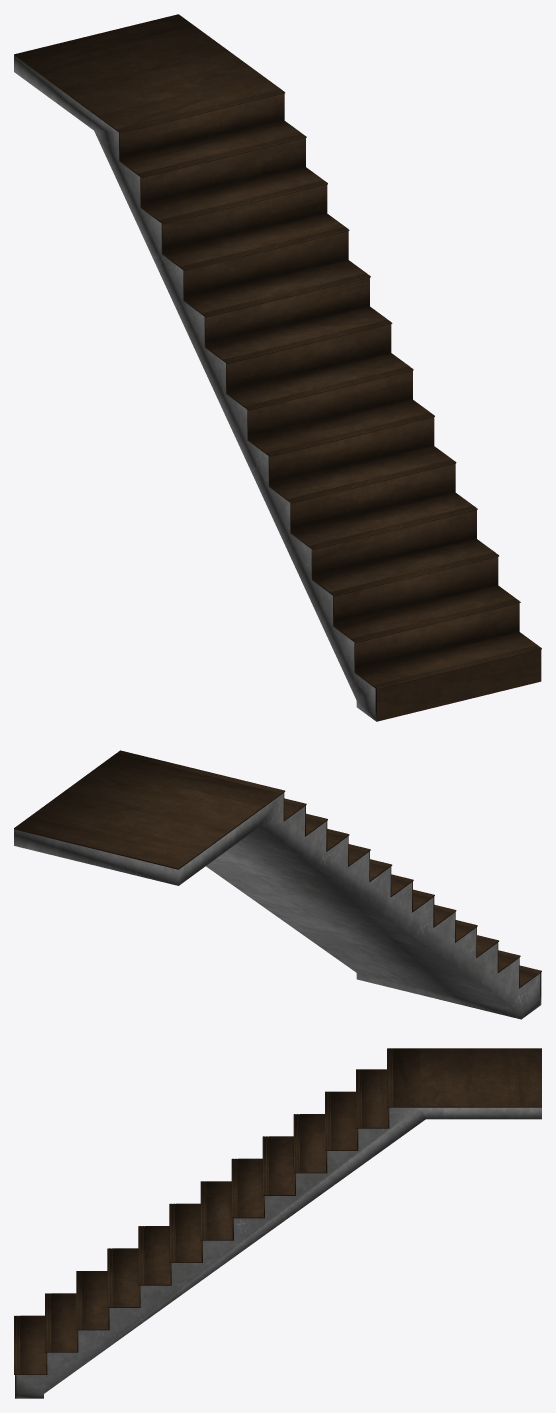
The model's file is stairs.glb.
3 views of the same model, one above another, from view 1: azimuth 30°, elevation 25°; view 2: azimuth 150°, elevation 25°; view 3: azimuth 270°, elevation 25° (orthographic). The views are drawn at different scales.
Visible parts, largest first — view 1: G-Object.020, G-Object.023, G-Object.021, G-Object.018; view 2: G-Object.018, G-Object.021, G-Object.023, G-Object.020; view 3: G-Object.023, G-Object.018, G-Object.021, G-Object.020.
Boxes of the visible parts, x1,y1,x2,y2 form: G-Object.020: (119, 93, 541, 721); G-Object.023: (119, 120, 541, 689); G-Object.021: (14, 14, 285, 133); G-Object.018: (14, 56, 375, 720); G-Object.018: (14, 793, 540, 1019); G-Object.021: (14, 750, 285, 869); G-Object.023: (284, 798, 541, 987); G-Object.020: (283, 793, 541, 1005); G-Object.023: (14, 1069, 388, 1374); G-Object.018: (16, 1107, 541, 1398); G-Object.021: (387, 1048, 541, 1107); G-Object.020: (15, 1107, 389, 1398).
Size of the model in its own units: 1.2 by 2.8 by 4.59.
1 material, 1 textured.
